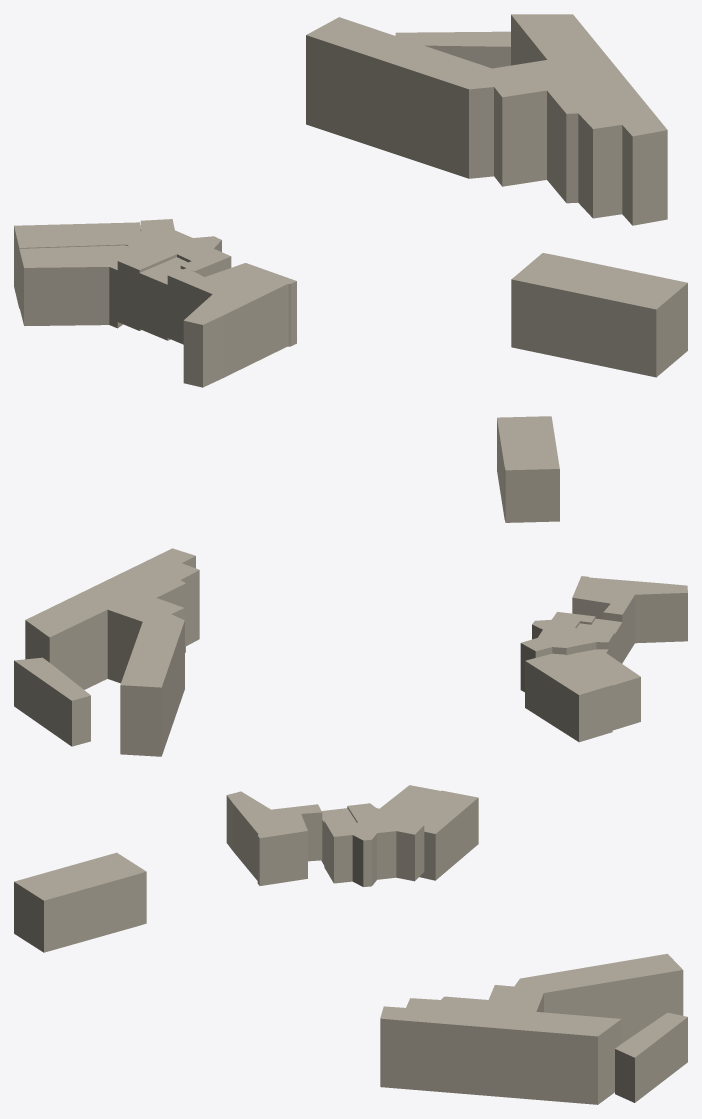
File: bormla_62_27_collision.glb
3 renders of one model, top to bottom at view 1: azimuth 30°, elevation 25°; view 2: azimuth 150°, elevation 25°; view 3: azimuth 270°, elevation 25°, orthographic. The views are drawn at different scales.
Visible parts, largest first — view 1: geometry_0; view 2: geometry_0; view 3: geometry_0.
Part boxes in pixels (x1,y1,x2,y2): geometry_0: [14, 14, 687, 387]; geometry_0: [14, 416, 687, 756]; geometry_0: [14, 785, 687, 1104].
Size of the model in its own units: 139 by 29.32 by 158.
